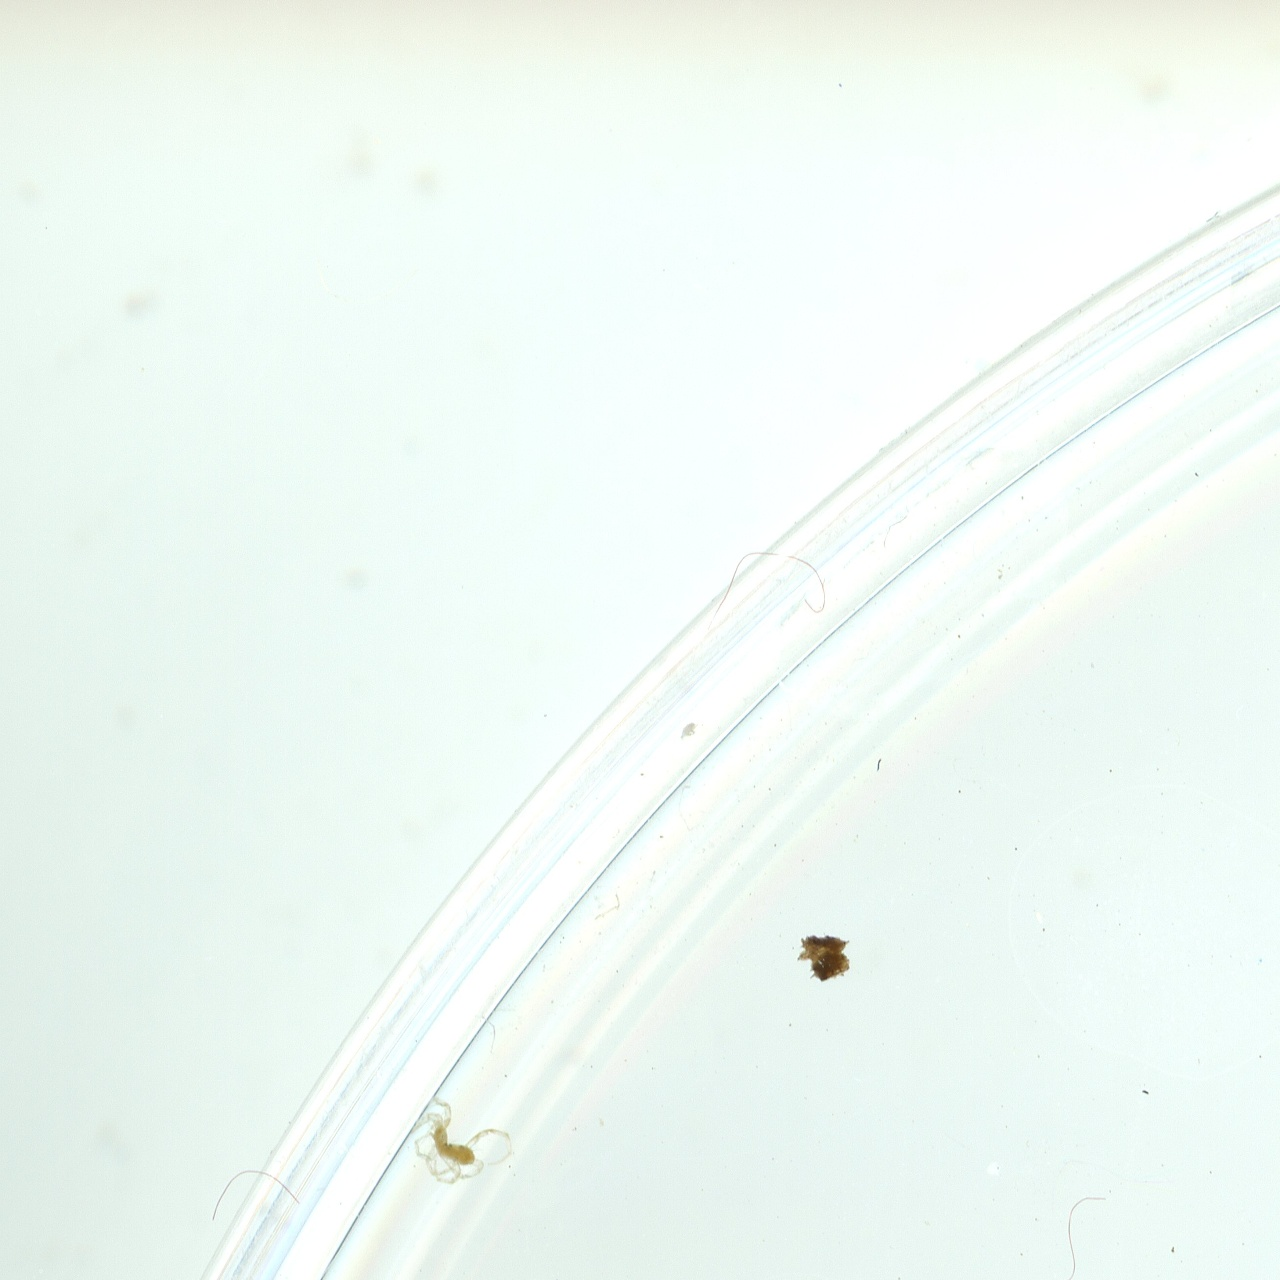arthropod: (411, 1091, 521, 1191)
